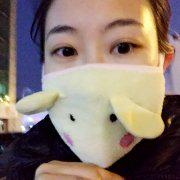OK: (39, 19, 164, 144)
